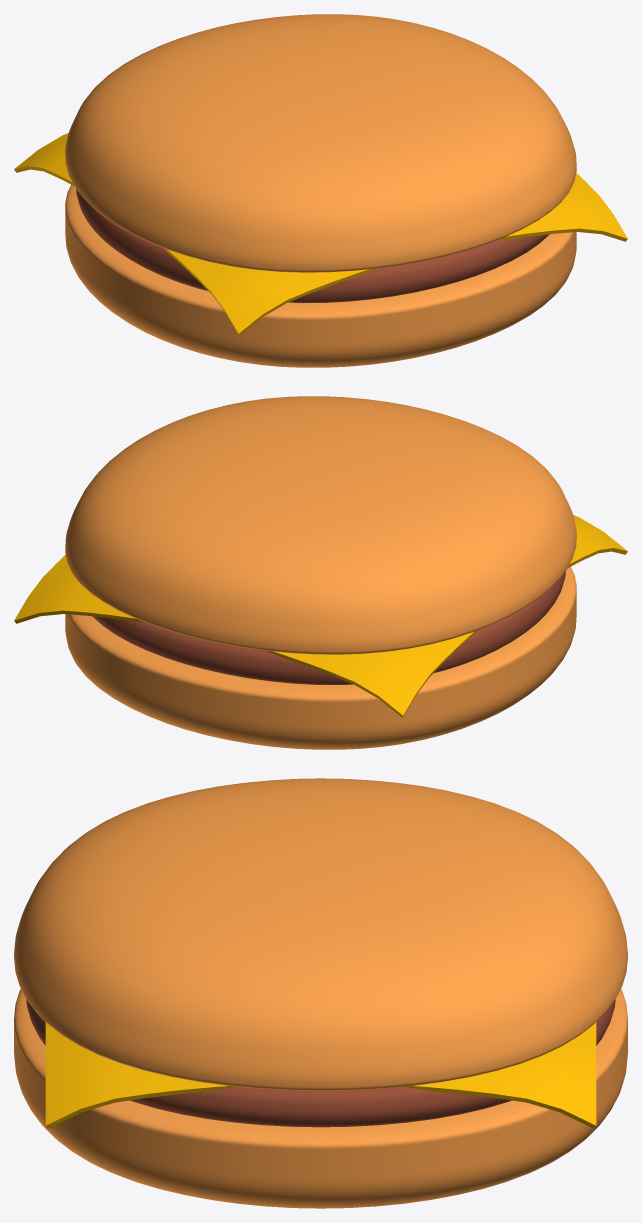
The model's file is hamburguer.glb.
3 renders of one model, top to bottom at view 1: azimuth 30°, elevation 25°; view 2: azimuth 150°, elevation 25°; view 3: azimuth 270°, elevation 25°, orthographic. The views are drawn at different scales.
Visible parts, largest first — view 1: Cube.002, Cube, Plane, Cube.001; view 2: Cube.002, Cube, Plane, Cube.001; view 3: Cube.002, Cube, Plane, Cube.001.
Part boxes in pixels (box(x1,y1,x2,y2)): Cube.002: box(65, 14, 576, 272); Cube: box(65, 184, 576, 367); Plane: box(14, 133, 627, 335); Cube.001: box(76, 188, 549, 303); Cube.002: box(65, 396, 576, 654); Cube: box(65, 566, 576, 749); Plane: box(14, 515, 627, 717); Cube.001: box(92, 570, 565, 684); Cube.002: box(14, 778, 627, 1090); Cube: box(14, 989, 627, 1208); Plane: box(45, 1022, 596, 1128); Cube.001: box(26, 999, 615, 1127).
Bounding box in the file's own units: 9.03 × 4.31 × 9.03.
